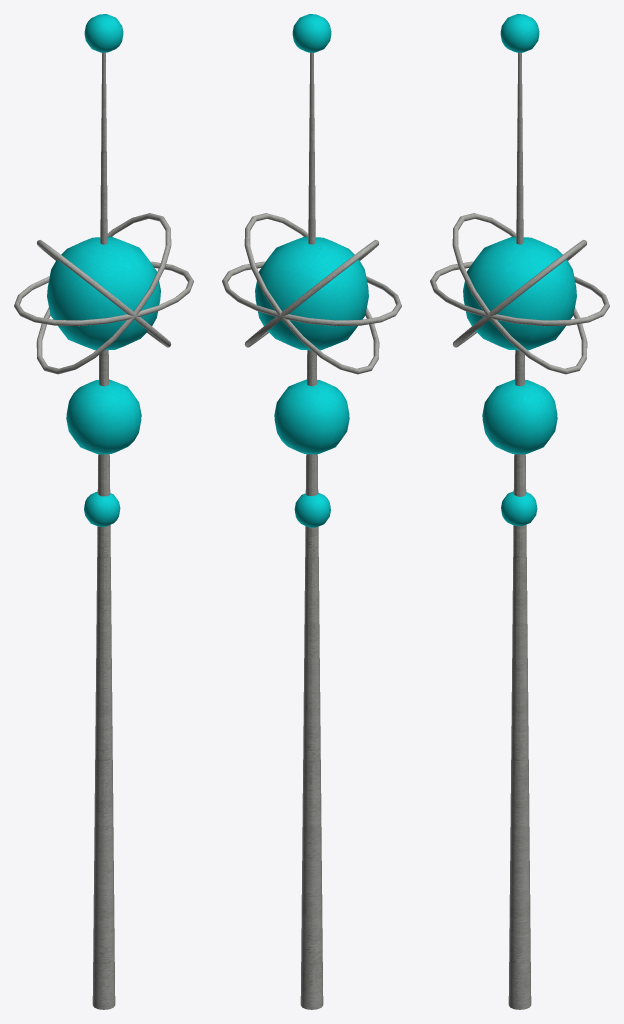
The model's file is Building01_antena2.gltf.
3 renders of one model, left to right at view 1: azimuth 30°, elevation 25°; view 2: azimuth 150°, elevation 25°; view 3: azimuth 330°, elevation 25°, orthographic.
Parts seen in each view (by area): view 1: Building01_antena2(Clone); view 2: Building01_antena2(Clone); view 3: Building01_antena2(Clone).
Part boxes in pixels (left/top/right/bottom): Building01_antena2(Clone): left=14, top=14, right=193, bottom=1009; Building01_antena2(Clone): left=222, top=14, right=401, bottom=1009; Building01_antena2(Clone): left=430, top=14, right=609, bottom=1009.
Bounding box in the file's own units: 2.74 × 15.33 × 1.75.
Materials: 2 (2 with a texture image).
